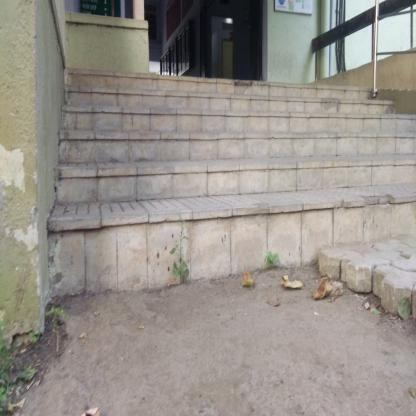stairs: (89, 84, 316, 284)
